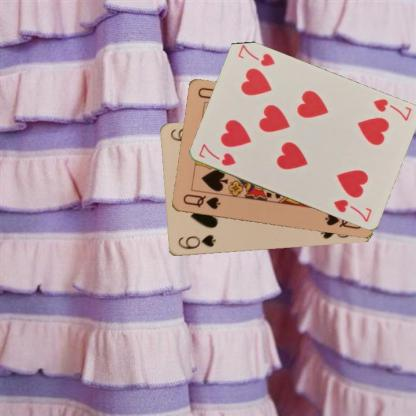6s: (175, 232, 217, 251)
7h: (370, 96, 412, 122), (196, 142, 237, 168)
Qs: (180, 192, 222, 211)
